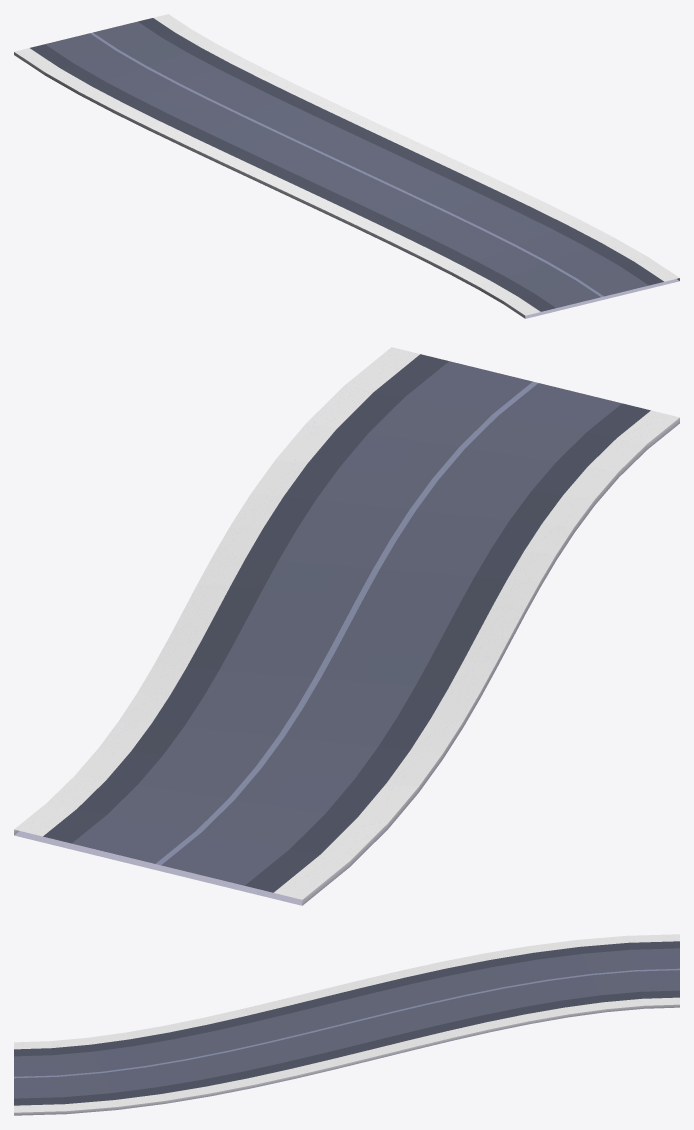
Rendered from road-Chicane-Flat-Flat-Up1-Left1-Size4.glb.
3 renders of one model, top to bottom at view 1: azimuth 30°, elevation 25°; view 2: azimuth 150°, elevation 25°; view 3: azimuth 270°, elevation 25°, orthographic. The views are drawn at different scales.
Visible parts, largest first — view 1: road-Chicane-Flat-Flat-Up1-Left1-Size4; view 2: road-Chicane-Flat-Flat-Up1-Left1-Size4; view 3: road-Chicane-Flat-Flat-Up1-Left1-Size4.
Part boxes in pixels (x1,y1,x2,y2): road-Chicane-Flat-Flat-Up1-Left1-Size4: (14,14,679,318); road-Chicane-Flat-Flat-Up1-Left1-Size4: (14,347,679,905); road-Chicane-Flat-Flat-Up1-Left1-Size4: (14,934,679,1115).
Size of the model in its own units: 2 by 0.27 by 4.
Materials: 1 (1 with a texture image).
